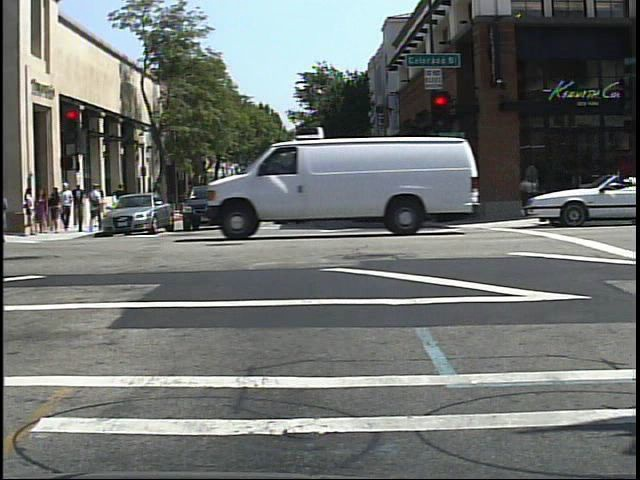person: (84, 180, 104, 232)
